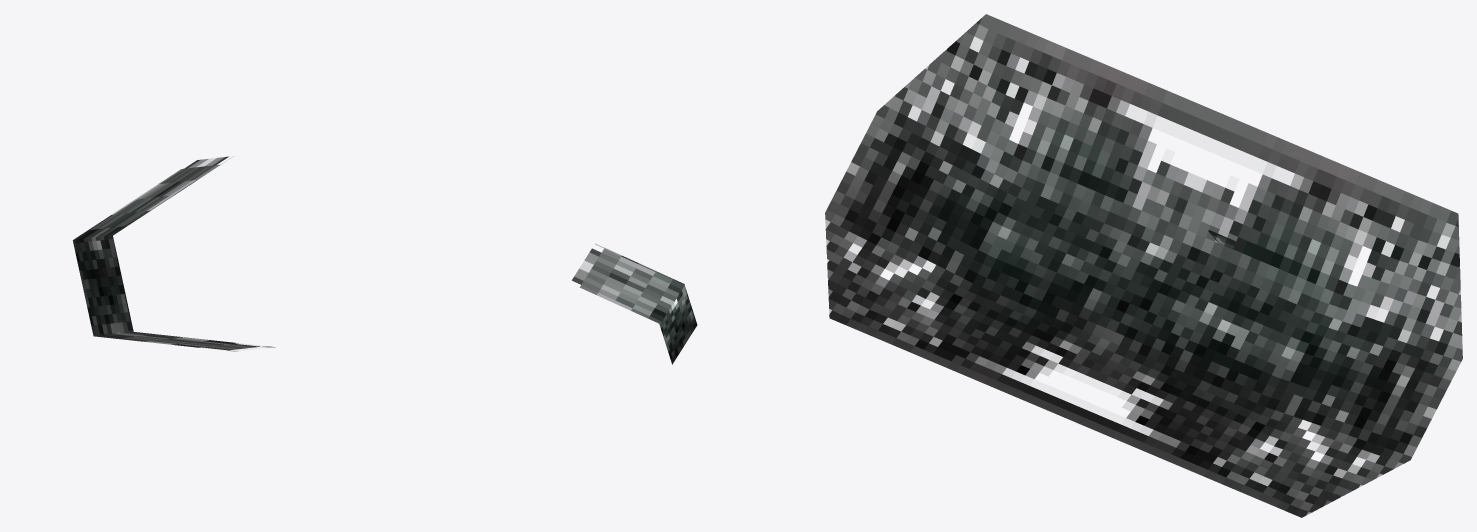
File: Shield10.glb
3 renders of one model, left to right at view 1: azimuth 30°, elevation 25°; view 2: azimuth 150°, elevation 25°; view 3: azimuth 270°, elevation 25°, orthographic. The views are drawn at different scales.
Parts seen in each view (by area): view 1: model_Shield10; view 2: model_Shield10; view 3: model_Shield10.
Part boxes in pixels (x1,y1,x2,y2): model_Shield10: (73,156,275,351); model_Shield10: (572,244,697,364); model_Shield10: (825,14,1462,517).
Size of the model in its own units: 0.1888 by 0.7877 by 0.9035.
1 material, 1 textured.
